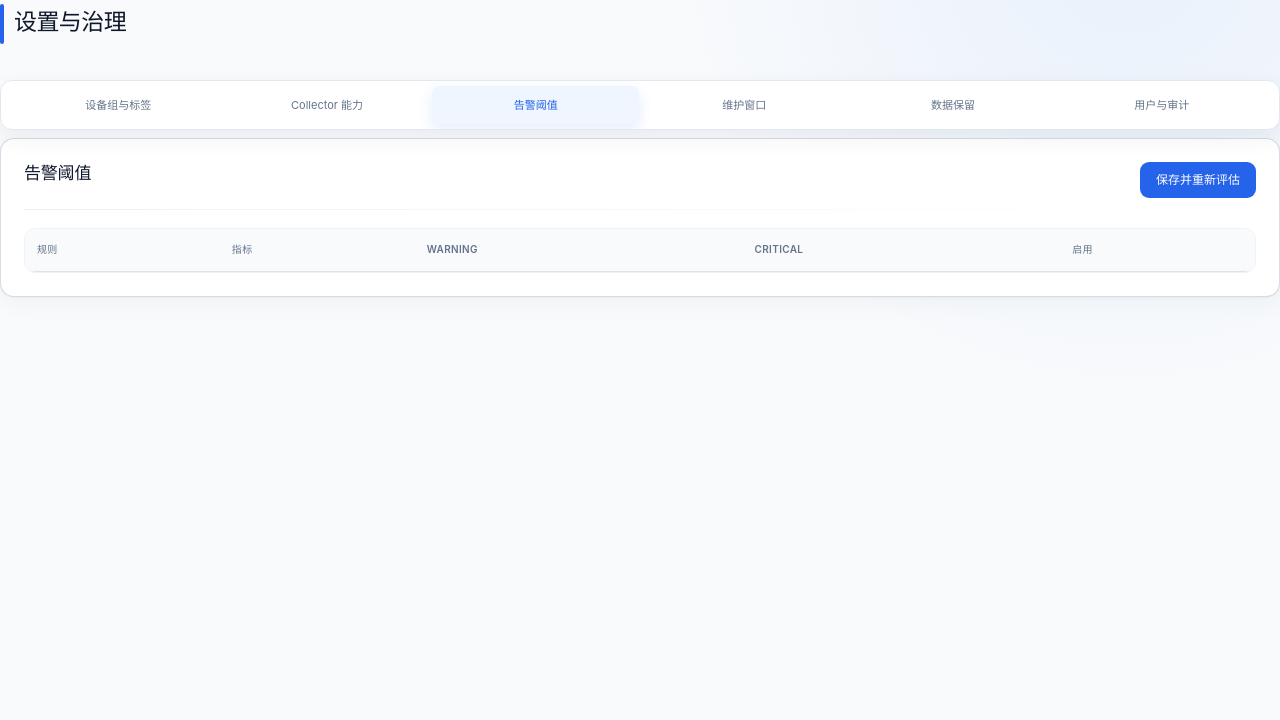
it: SettingsPage tabs › previews and confirms cleanup before pruning unused images
The width and height of the screenshot is (1280, 720).
Click the tab with id "settings-tab-retention". click: (953, 105)
box: top-left (850, 86), bottom-right (1056, 124)
(page scrolled)
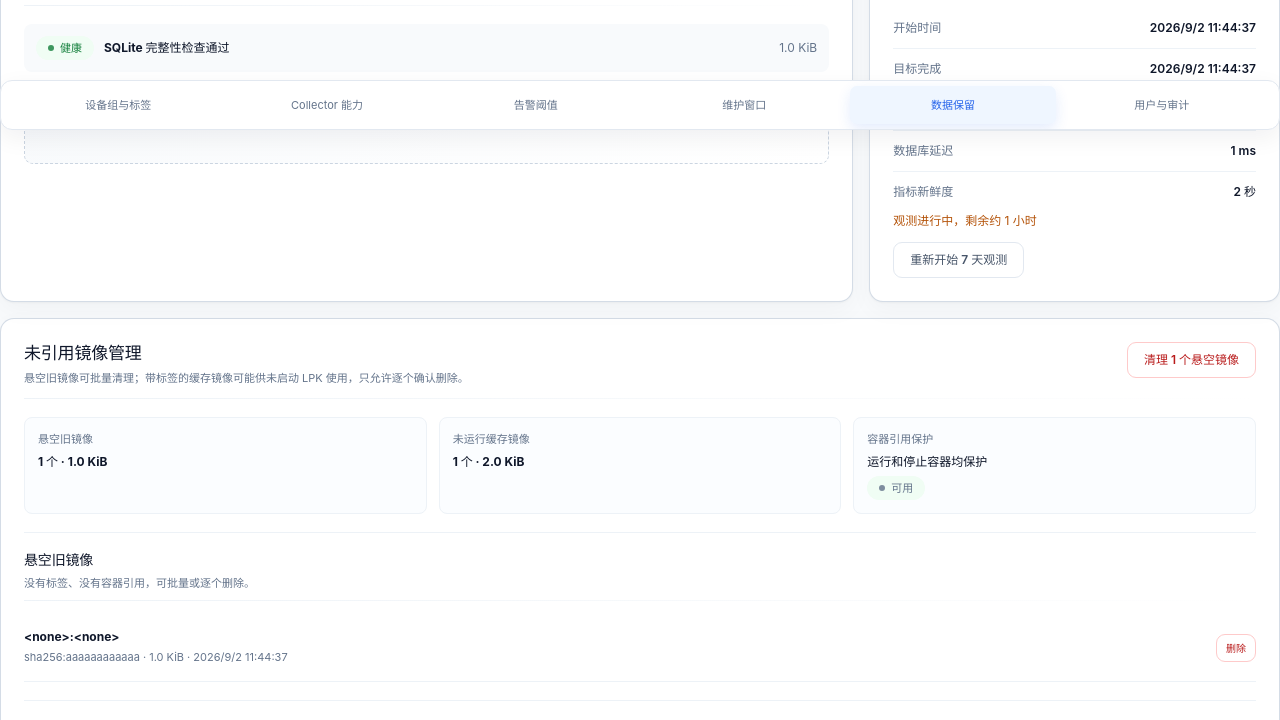
Expected: the text "清理 1 个悬空镜像" is shown
Click the button with class "danger-button" showing "清理 1 个悬空镜像". click: (1191, 360)
box: top-left (1127, 342), bottom-right (1256, 378)
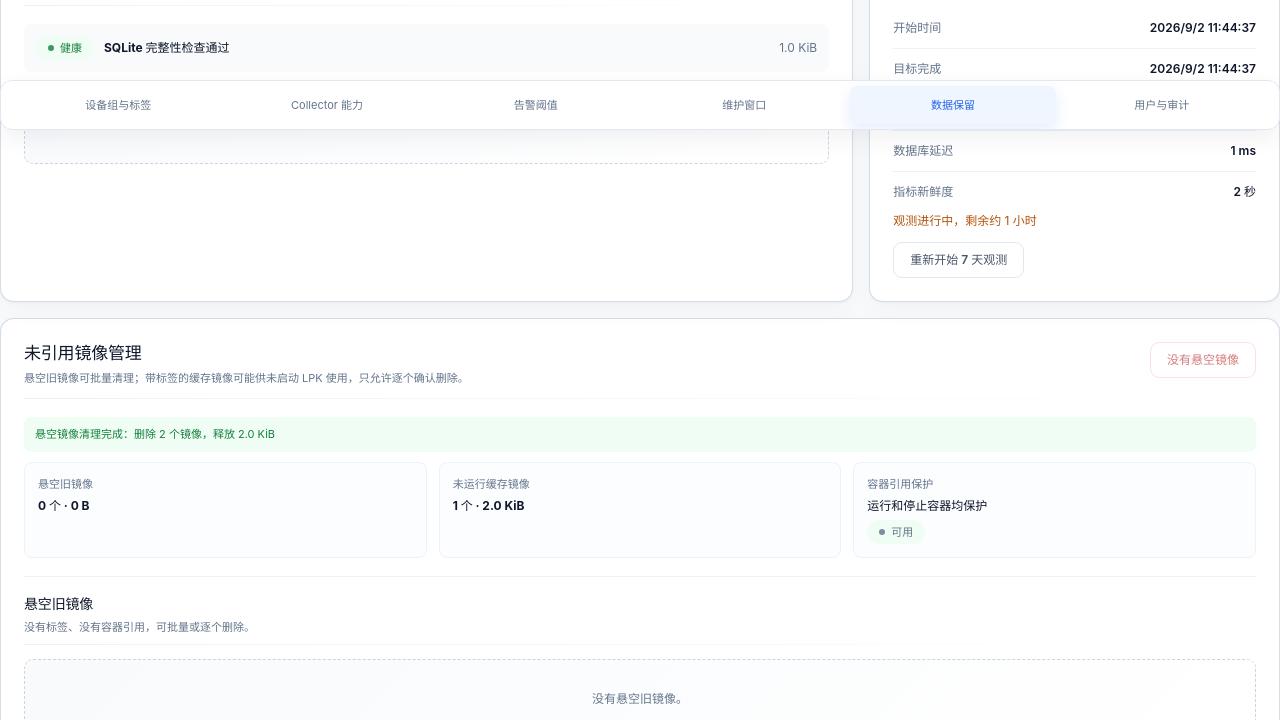
Expected: the text "删除 2 个镜像" is shown, top-left (35, 427), bottom-right (275, 441)
Expected: the text "没有悬空镜像" is shown, top-left (1150, 342), bottom-right (1256, 378)
